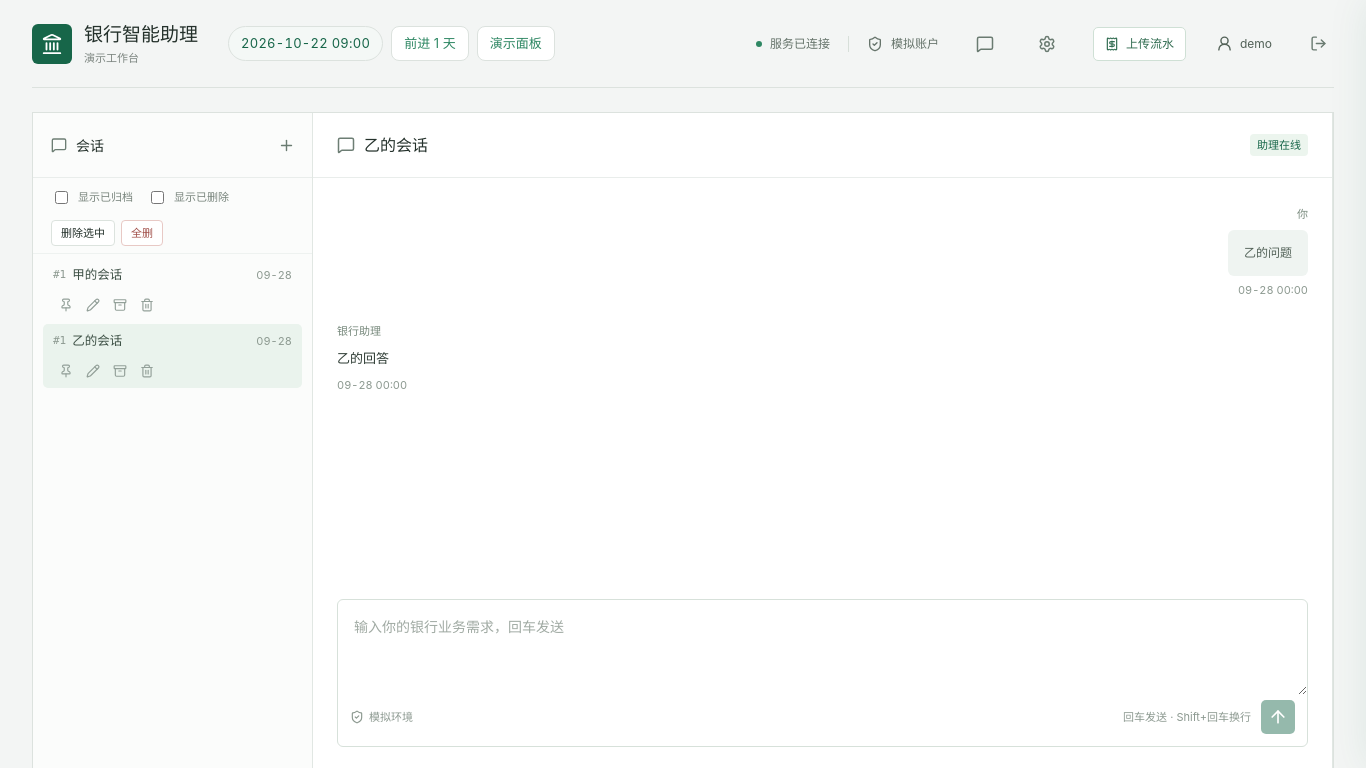
Test: conversation switching › does not leave the turn that was in flight over the conversation switched to
Type "乙这边没跑完的话" into the text box with placeholder "输入你的银行业务需求，回车发送" at (822, 648), box x1=338 y1=600 x2=1307 y2=695
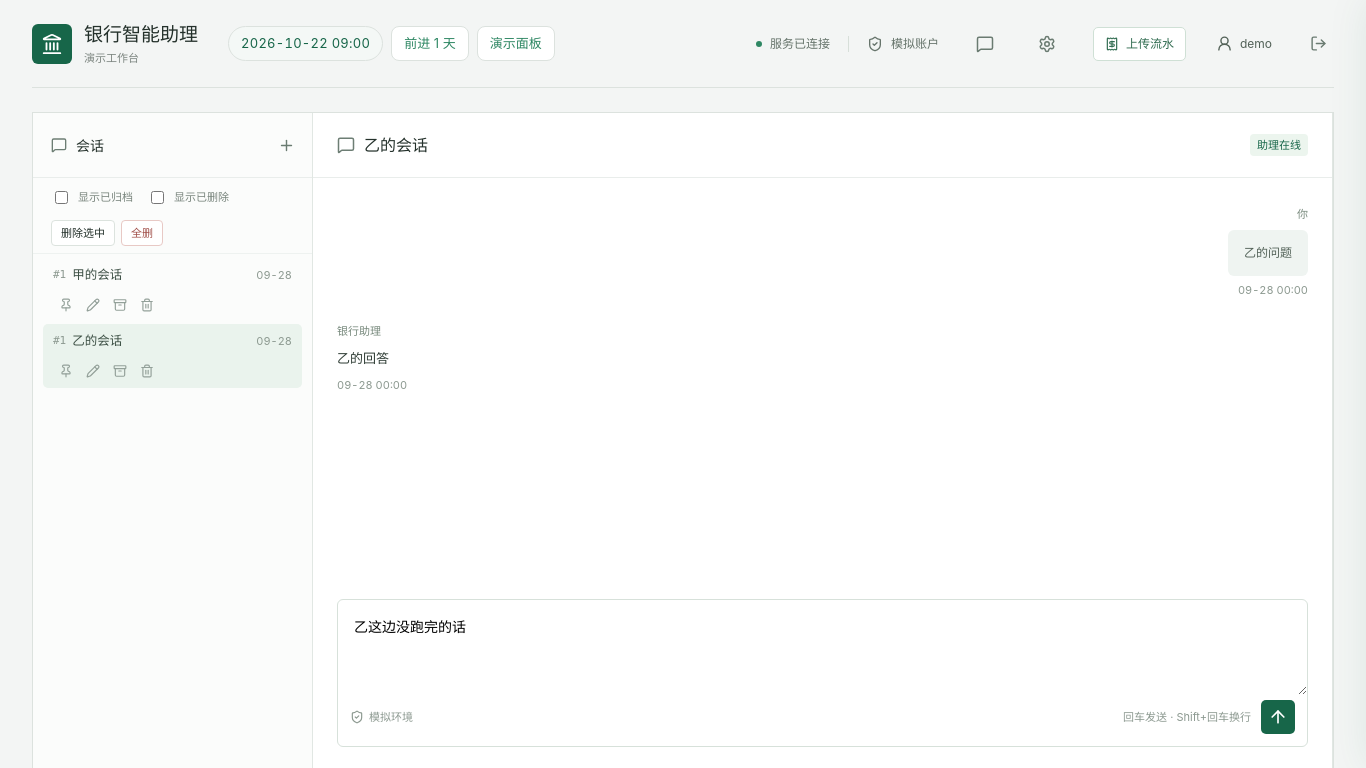
Submit the form with class "composer", box x1=337 y1=599 x2=1308 y2=747
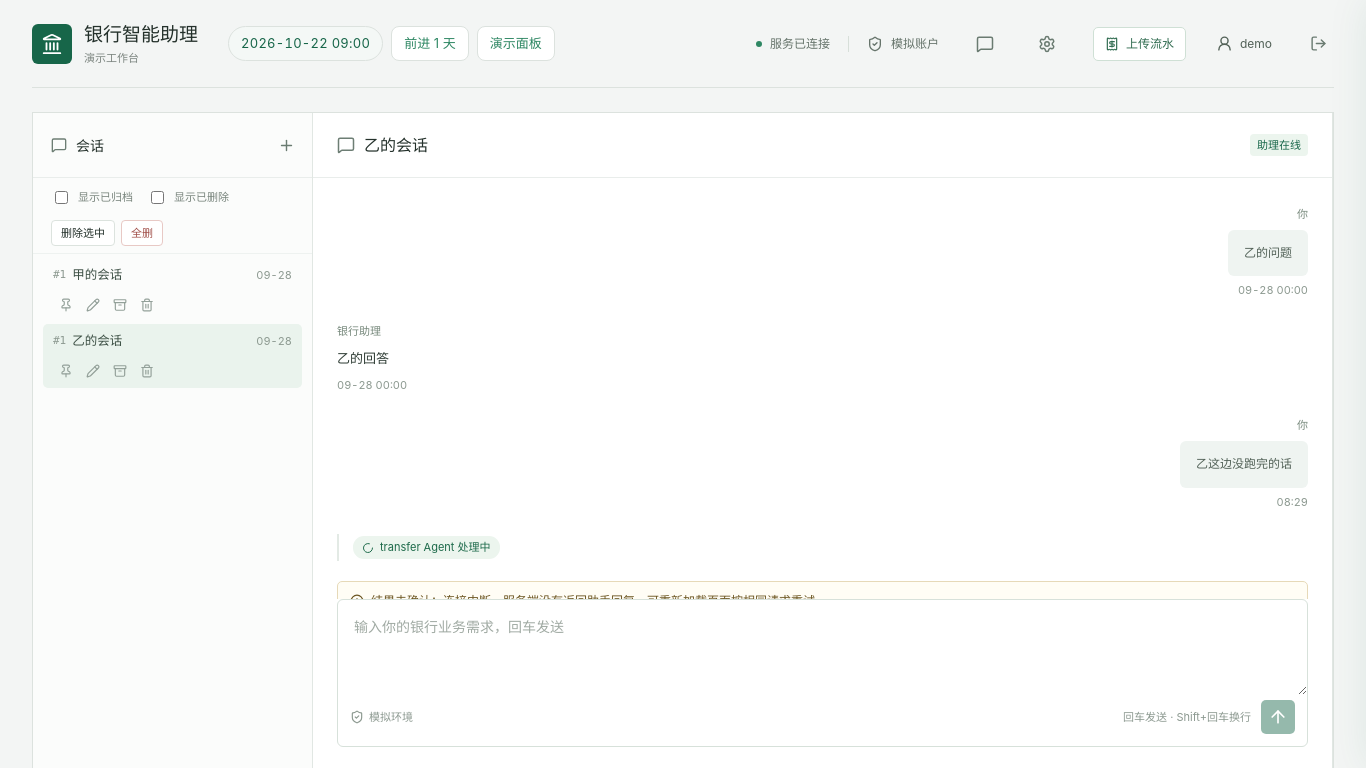
Result: the element with class "conversation" shows "乙这边没跑完的话" at x1=1196 y1=456 x2=1292 y2=471
Click the element with class "conversation-row" showing "#1 甲的会话 09-28" at (97, 274), box x1=53 y1=267 x2=292 y2=282
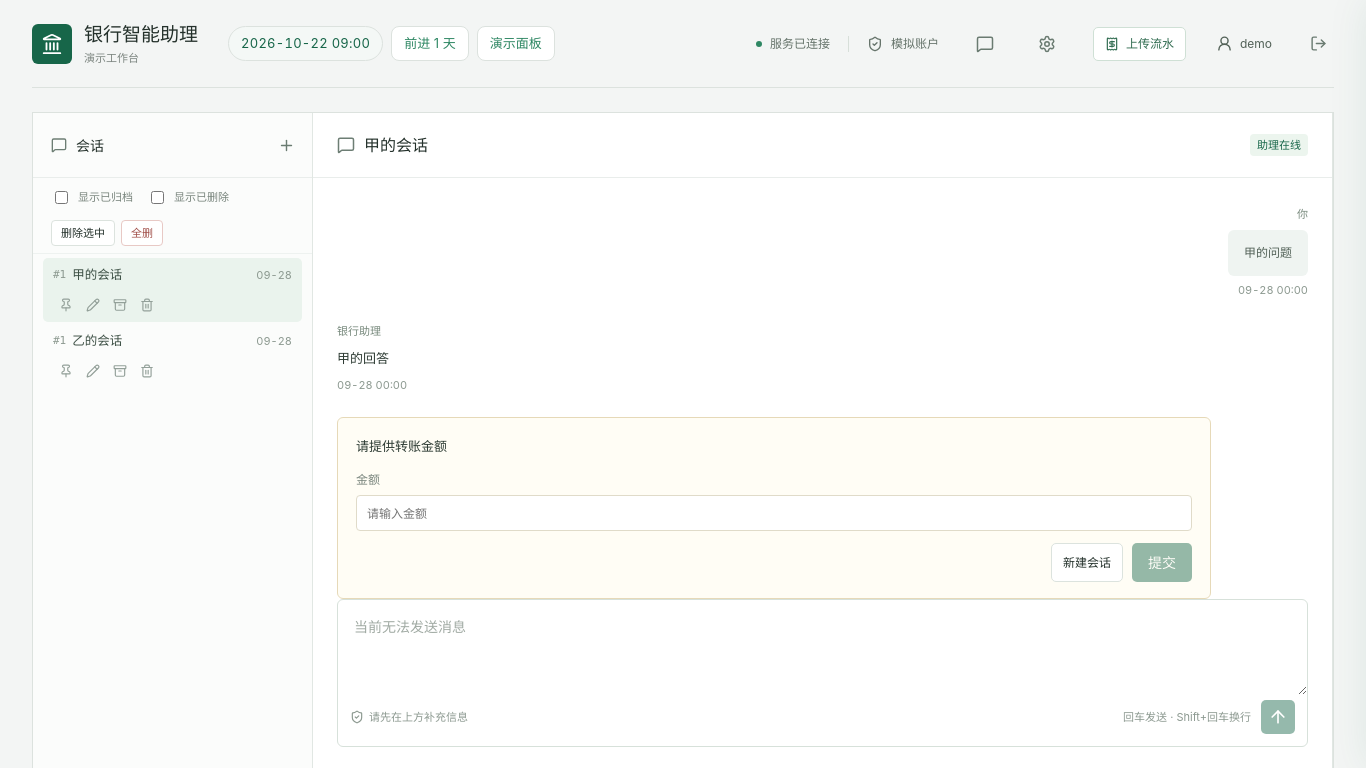
Result: the heading "甲的会话" is shown at x1=364 y1=133 x2=428 y2=157
Result: the text with class "conversation" no longer shows "乙这边没跑完的话"
Result: the message with class "conversation" no longer shows "结果未确认"
